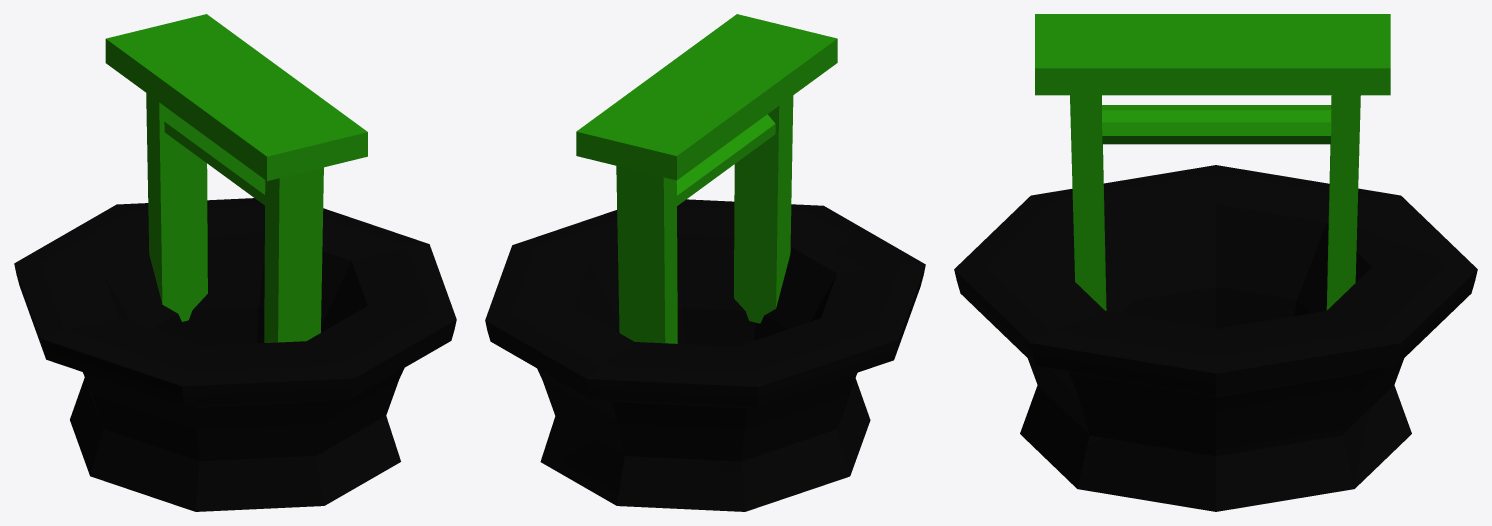
File: Well_KW.fbx
3 views of the same model, side by side, from view 1: azimuth 30°, elevation 25°; view 2: azimuth 150°, elevation 25°; view 3: azimuth 270°, elevation 25° (orthographic). The views are drawn at different scales.
Visible parts, largest first — view 1: Well_KW; view 2: Well_KW; view 3: Well_KW.
Part boxes in pixels (bbox=[...]): Well_KW: bbox=[14, 14, 456, 511]; Well_KW: bbox=[485, 14, 925, 511]; Well_KW: bbox=[954, 14, 1477, 511].
Size of the model in its own units: 303 by 266 by 322.
